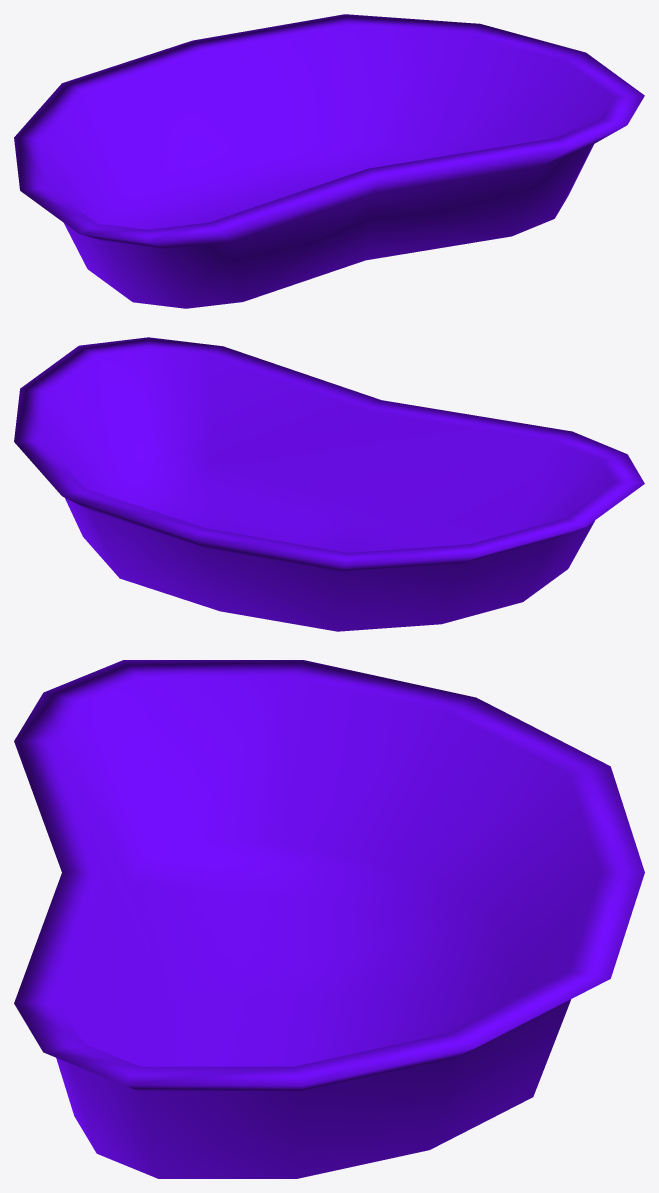
The model's file is hospital_staff_medicalTray_2_meshCollider.fbx.
The picture shows the model from 3 angles, top to bottom: view 1: azimuth 30°, elevation 25°; view 2: azimuth 150°, elevation 25°; view 3: azimuth 270°, elevation 25°; orthographic projection. The views are drawn at different scales.
Visible parts, largest first — view 1: hospital_staff_medicalTray_2_meshCollider; view 2: hospital_staff_medicalTray_2_meshCollider; view 3: hospital_staff_medicalTray_2_meshCollider.
Part boxes in pixels (box(x1,y1,x2,y2)): hospital_staff_medicalTray_2_meshCollider: box(14, 14, 644, 308); hospital_staff_medicalTray_2_meshCollider: box(14, 337, 644, 631); hospital_staff_medicalTray_2_meshCollider: box(14, 660, 644, 1178).
Bounding box in the file's own units: 23.11 × 3.62 × 14.5.
